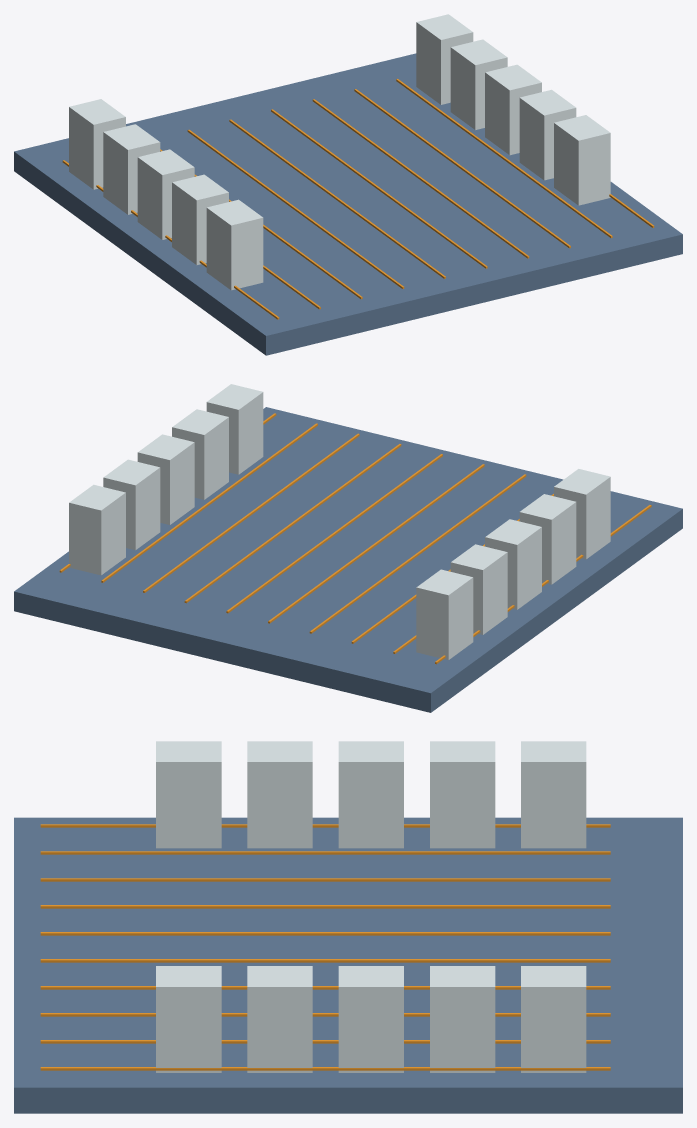
Rendered from 07_L89_StormShelterInteriorSupportDeck.fbx.
3 renders of one model, top to bottom at view 1: azimuth 30°, elevation 25°; view 2: azimuth 150°, elevation 25°; view 3: azimuth 270°, elevation 25°, orthographic. The views are drawn at different scales.
Parts seen in each view (by area): view 1: L87_StormShelterInteriorSupportDeck_Part_0000, L87_StormShelterInteriorSupportDeck_Part_0002, L87_StormShelterInteriorSupportDeck_Part_0001; view 2: L87_StormShelterInteriorSupportDeck_Part_0000, L87_StormShelterInteriorSupportDeck_Part_0002, L87_StormShelterInteriorSupportDeck_Part_0001; view 3: L87_StormShelterInteriorSupportDeck_Part_0000, L87_StormShelterInteriorSupportDeck_Part_0002, L87_StormShelterInteriorSupportDeck_Part_0001.
Part boxes in pixels (box(x1,y1,x2,y2)): L87_StormShelterInteriorSupportDeck_Part_0000: box(14, 53, 682, 355); L87_StormShelterInteriorSupportDeck_Part_0002: box(69, 14, 610, 290); L87_StormShelterInteriorSupportDeck_Part_0001: box(62, 79, 654, 319); L87_StormShelterInteriorSupportDeck_Part_0000: box(14, 407, 682, 712); L87_StormShelterInteriorSupportDeck_Part_0002: box(69, 384, 610, 659); L87_StormShelterInteriorSupportDeck_Part_0001: box(59, 413, 651, 664); L87_StormShelterInteriorSupportDeck_Part_0000: box(14, 817, 682, 1113); L87_StormShelterInteriorSupportDeck_Part_0002: box(156, 741, 586, 1072); L87_StormShelterInteriorSupportDeck_Part_0001: box(40, 824, 610, 1070).
Size of the model in its own units: 840 by 174 by 880.
